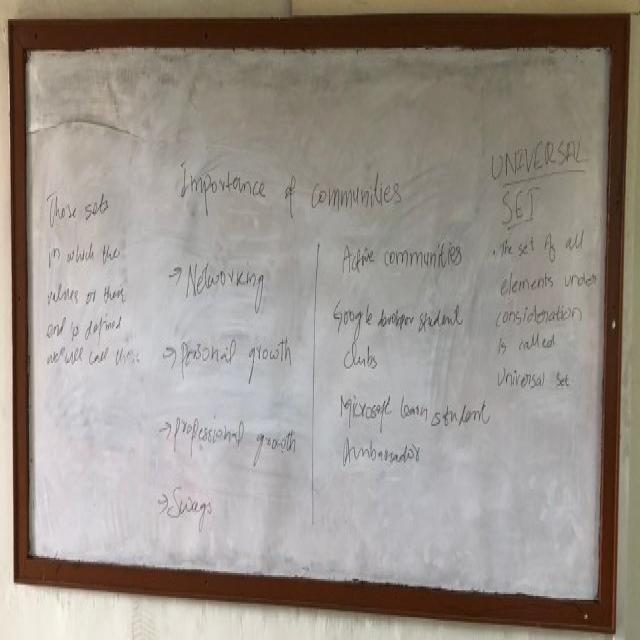White-board: (18, 28, 624, 617)
